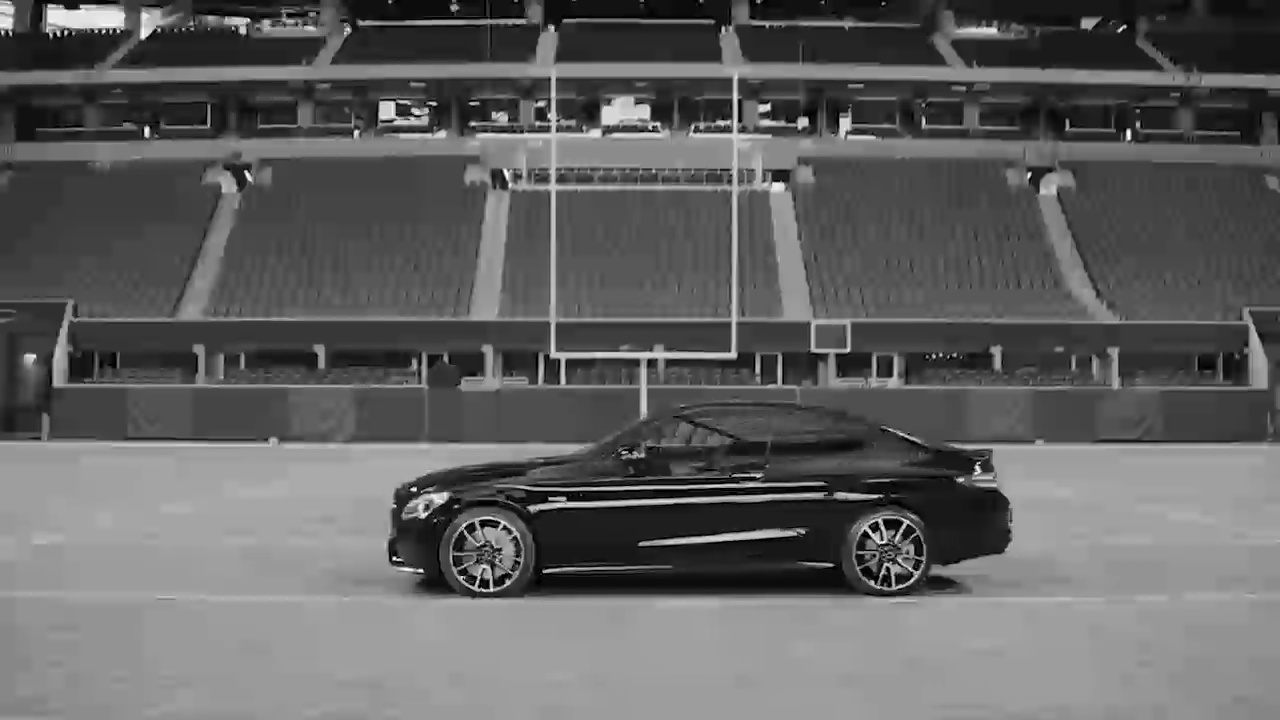car: (382, 393, 1024, 597)
